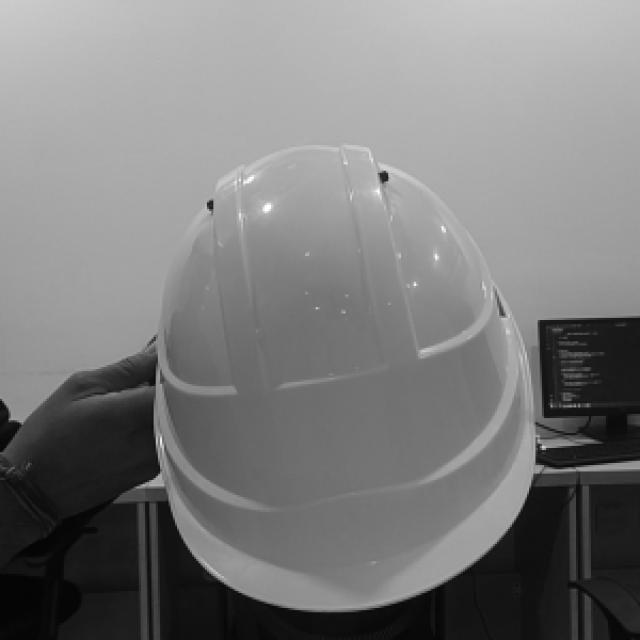safety_helmet: (154, 142, 536, 611)
